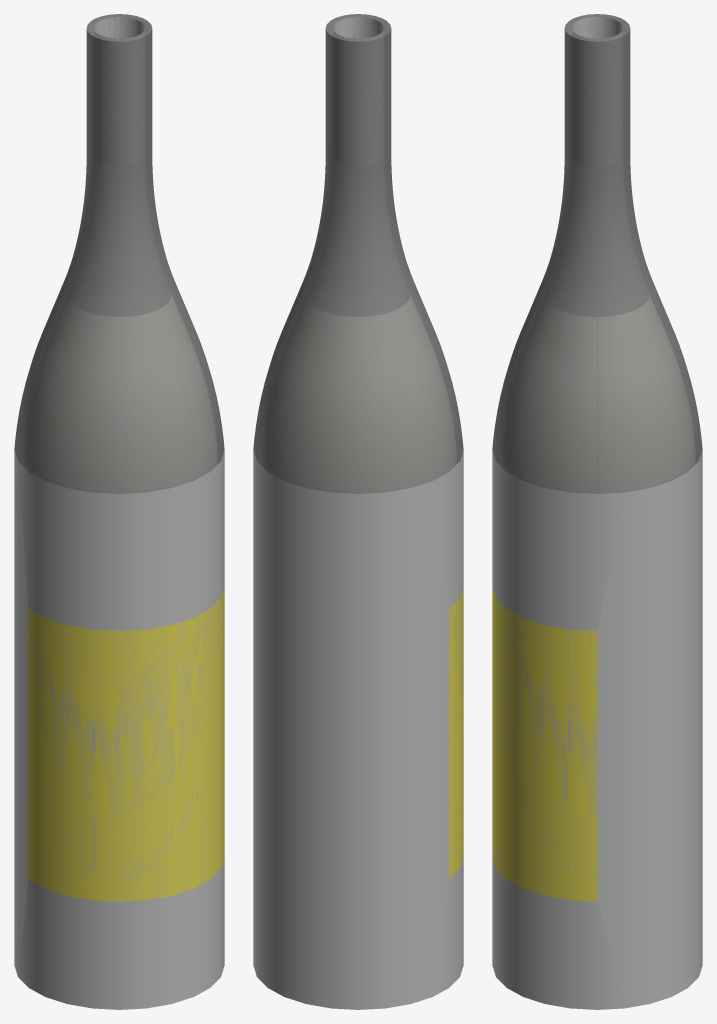
The picture shows the model from 3 angles, left to right: view 1: azimuth 30°, elevation 25°; view 2: azimuth 150°, elevation 25°; view 3: azimuth 270°, elevation 25°; orthographic projection.
Parts seen in each view (by area): view 1: mesh1_mesh1-geometry; view 2: mesh1_mesh1-geometry; view 3: mesh1_mesh1-geometry.
Part boxes in pixels (bbox=[...]): mesh1_mesh1-geometry: bbox=[14, 14, 224, 1009]; mesh1_mesh1-geometry: bbox=[253, 14, 463, 1009]; mesh1_mesh1-geometry: bbox=[492, 14, 702, 1009].
Bounding box in the file's own units: 0.1953 × 0.9611 × 0.1953.
